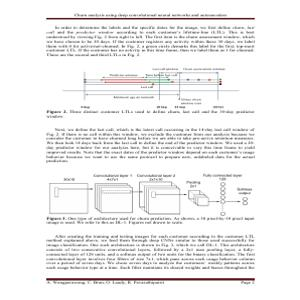diagram: (44, 170, 257, 231), (41, 64, 246, 109)
text: (41, 123, 258, 164), (41, 233, 257, 273), (44, 22, 257, 57)
